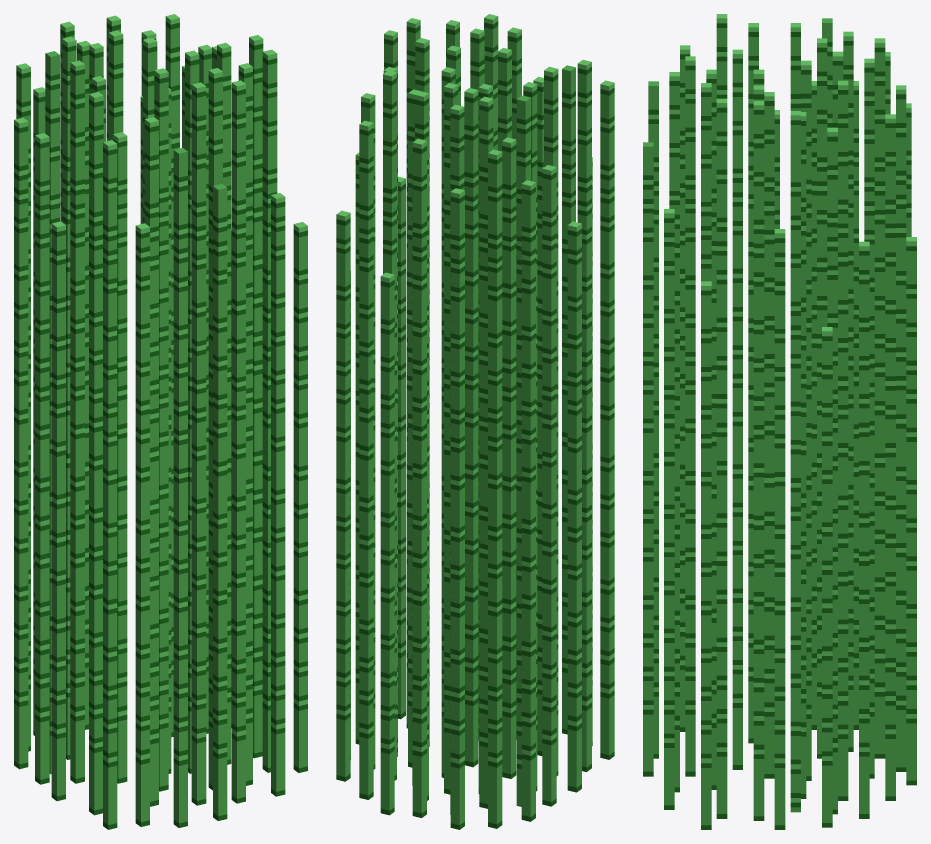
File: bamboo.obj
3 views of the same model, side by side, from view 1: azimuth 30°, elevation 25°; view 2: azimuth 150°, elevation 25°; view 3: azimuth 270°, elevation 25° (orthographic).
Size of the model in its own units: 4.8 by 15 by 5.2.
1 material, 1 textured.
